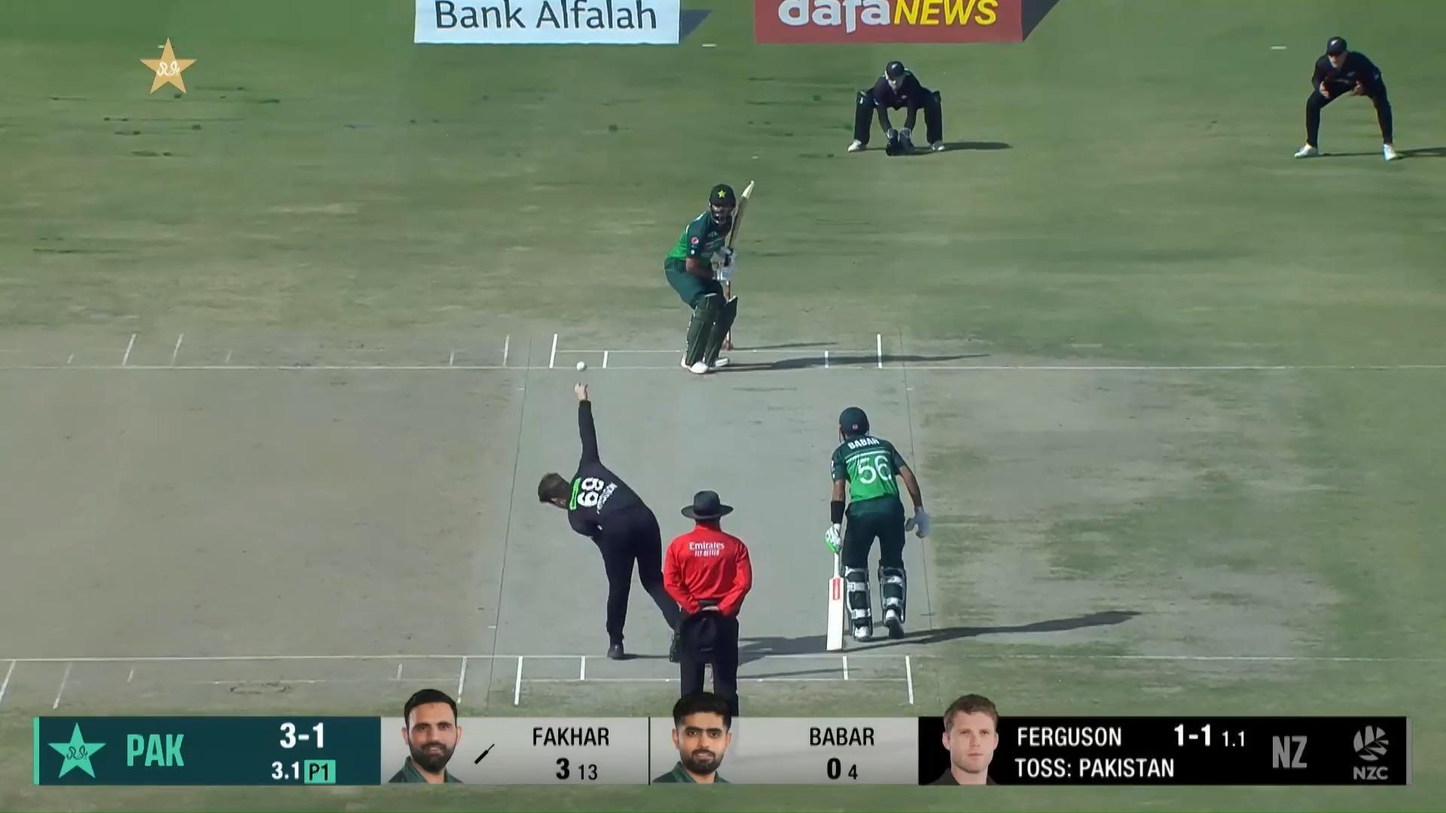BM 1: (664, 177, 757, 375)
BO: (536, 381, 698, 662)
